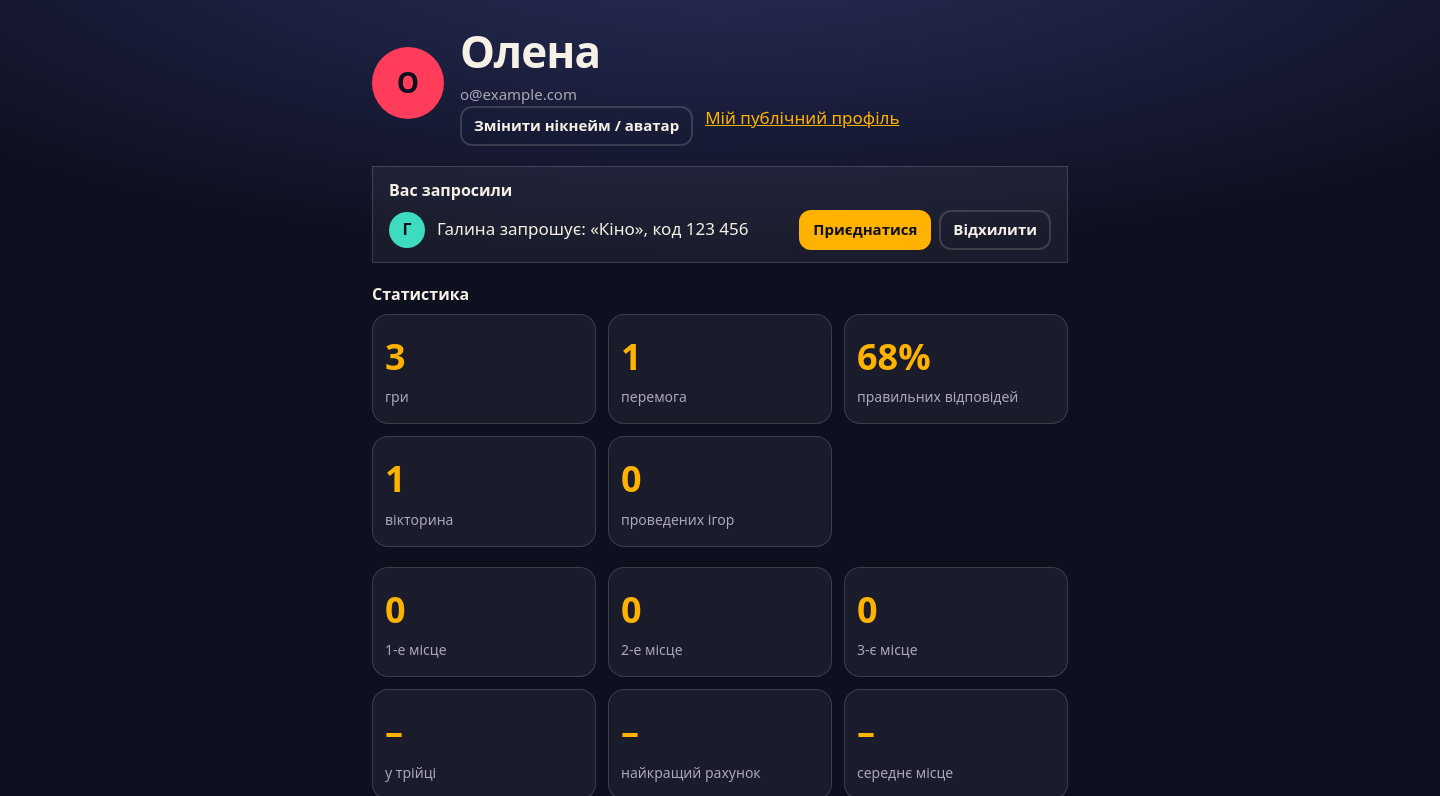
Profile › keeps the invite and shows an error when dismissing fails
This screenshot has width=1440, height=796.
Click the button "Відхилити".
click(995, 230)  # box [939,210,1051,250]
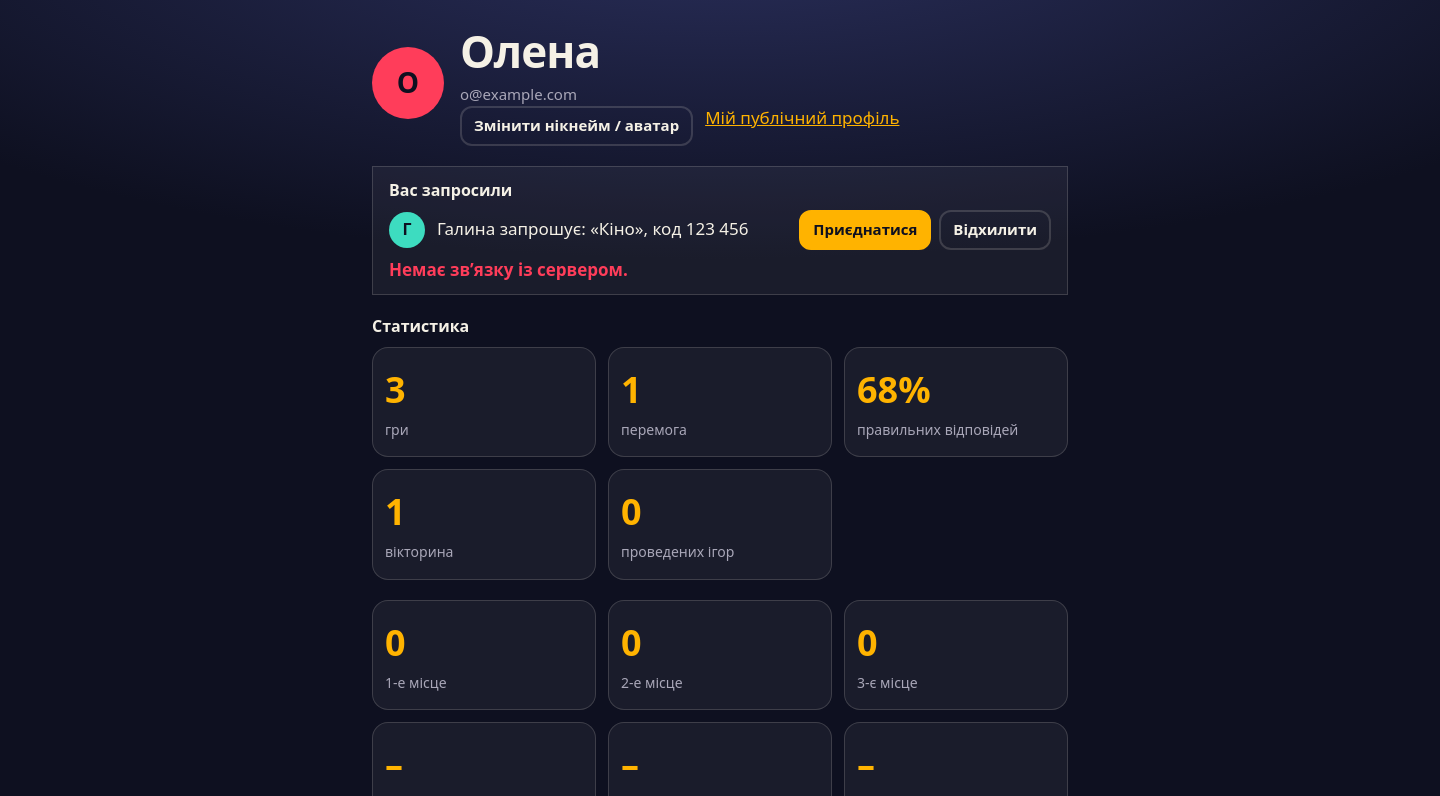
Expected: the text "Галина запрошує: «Кіно», код 123 456" is shown, [437,217,787,242]
Expected: the message reads "Немає зв’язку із сервером.", [389,258,628,281]
